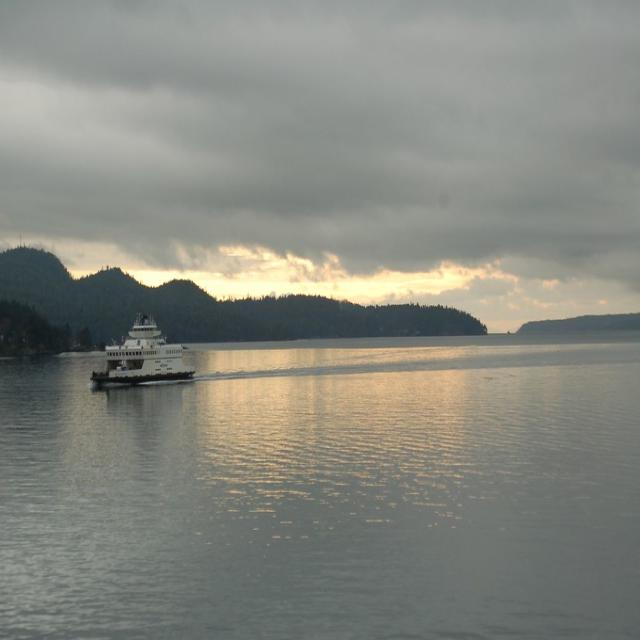houseboat: (81, 281, 208, 401)
